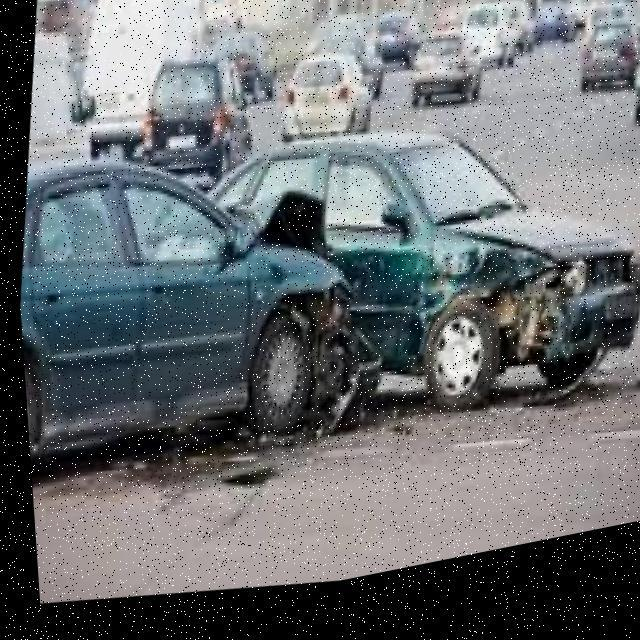Car Accident Detector - v4 Generation1 Exported: (89, 61, 640, 502)
